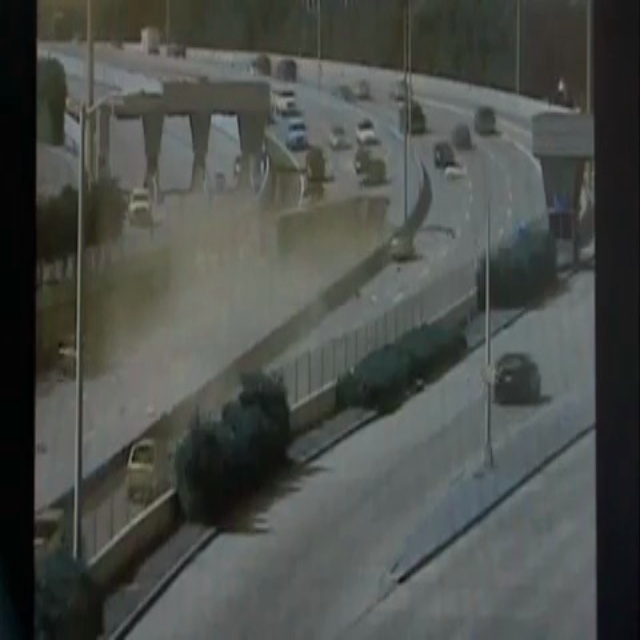acc: (248, 196, 383, 290)
